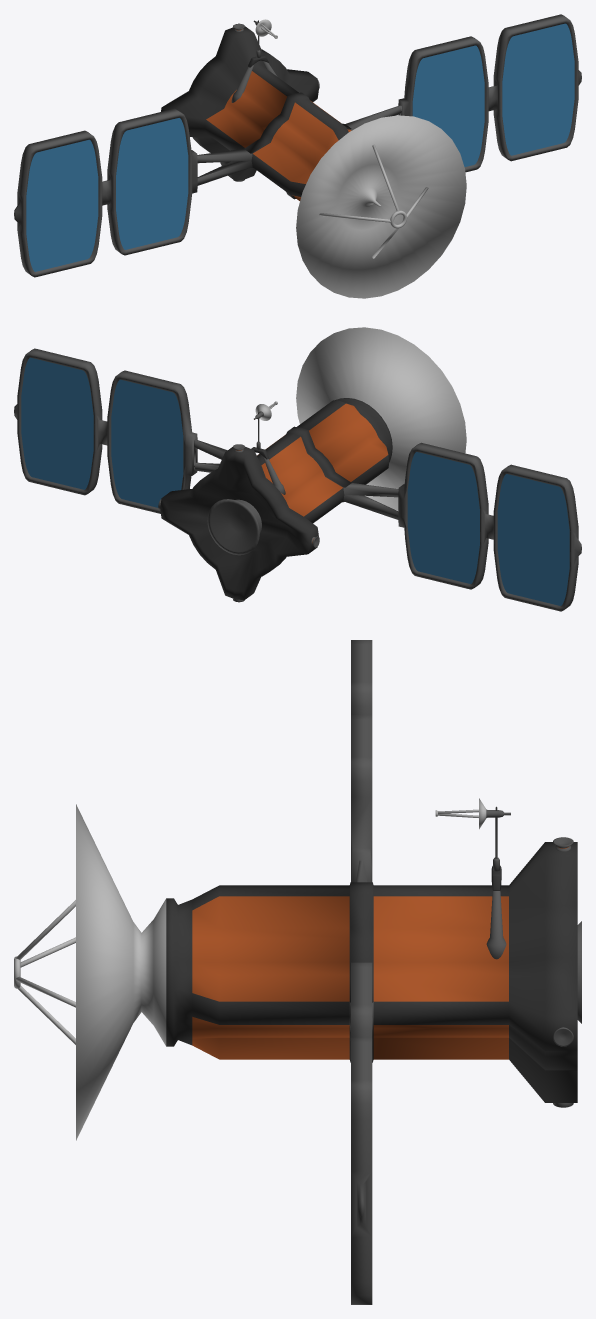
File: satellite.glb
3 renders of one model, top to bottom at view 1: azimuth 30°, elevation 25°; view 2: azimuth 150°, elevation 25°; view 3: azimuth 270°, elevation 25°, orthographic. The views are drawn at different scales.
Visible parts, largest first — view 1: Object_4, Object_5, Object_3, Object_2, Object_6; view 2: Object_4, Object_3, Object_5, Object_2, Object_6; view 3: Object_6, Object_2, Object_5, Object_3.
Boxes of the visible parts, x1=… form: Object_4: x1=26, y1=23, x2=574, y2=271; Object_5: x1=255, y1=19, x2=466, y2=298; Object_3: x1=14, y1=14, x2=581, y2=277; Object_2: x1=161, y1=20, x2=351, y2=199; Object_6: x1=206, y1=29, x2=351, y2=200; Object_4: x1=21, y1=357, x2=569, y2=605; Object_3: x1=14, y1=348, x2=581, y2=611; Object_5: x1=255, y1=327, x2=466, y2=510; Object_2: x1=160, y1=398, x2=392, y2=600; Object_6: x1=236, y1=403, x2=388, y2=542; Object_6: x1=192, y1=847, x2=568, y2=1059; Object_2: x1=166, y1=806, x2=577, y2=1102; Object_5: x1=14, y1=798, x2=486, y2=1140; Object_3: x1=349, y1=640, x2=581, y2=1304.
Bounding box in the file's own units: 21.16 × 6.8 × 10.74.
